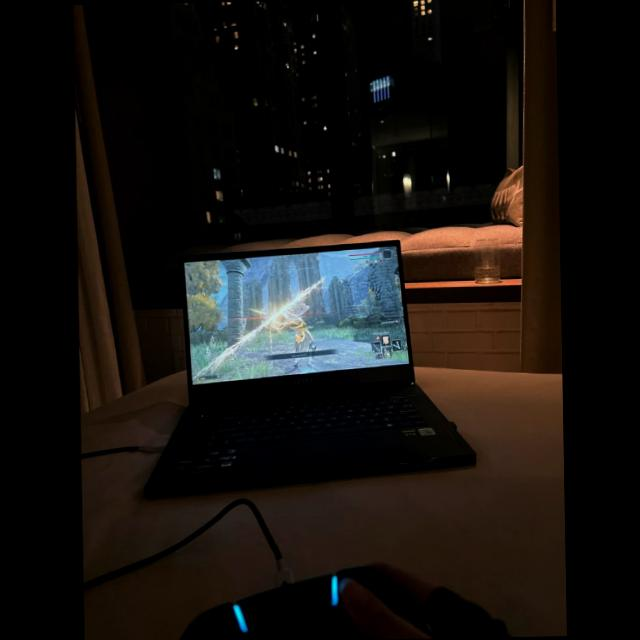laptop: (146, 241, 476, 497)
